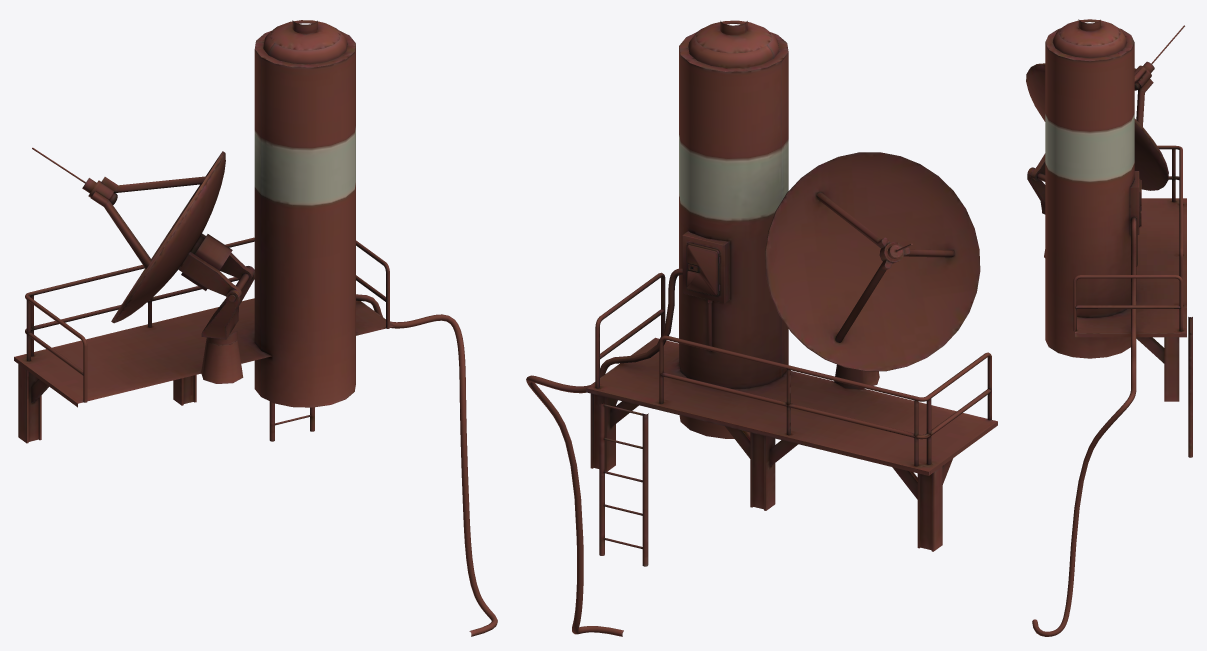
3 renders of one model, left to right at view 1: azimuth 30°, elevation 25°; view 2: azimuth 150°, elevation 25°; view 3: azimuth 270°, elevation 25°, orthographic. The views are drawn at different scales.
Parts seen in each view (by area): view 1: body0_model0_lod0_mesh0; view 2: body0_model0_lod0_mesh0; view 3: body0_model0_lod0_mesh0.
Part boxes in pixels (box(x1,y1,x2,y2)): body0_model0_lod0_mesh0: box(14, 20, 497, 636); body0_model0_lod0_mesh0: box(526, 20, 997, 636); body0_model0_lod0_mesh0: box(1026, 19, 1192, 636).
Size of the model in its own units: 221 by 325 by 89.53.
Materials: 1 (1 with a texture image).
